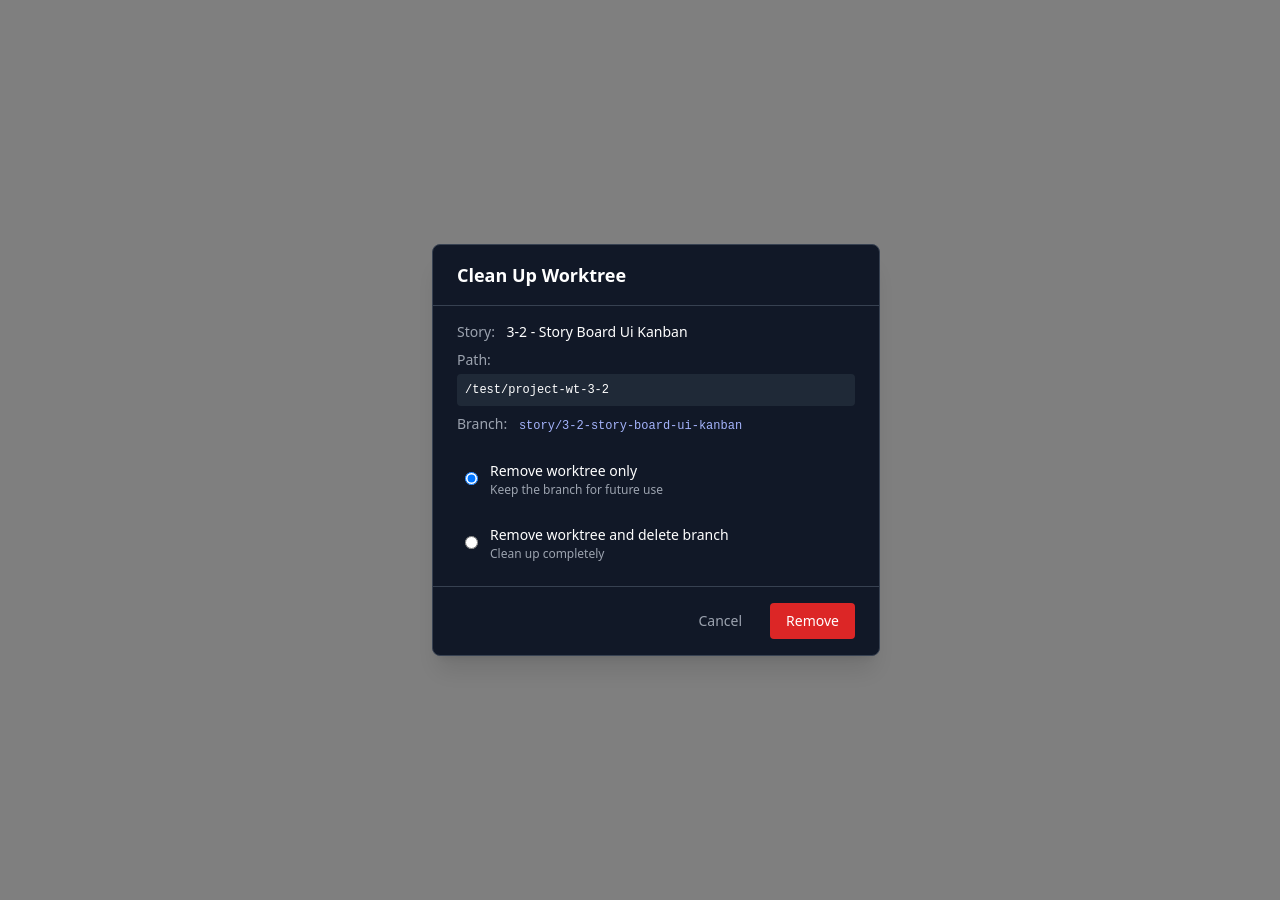
Test: WorktreeCleanupDialog › loading state › shows loading spinner during cleanup
The image size is (1280, 900).
Check: the text "Remove" is shown, box [786, 611, 839, 631]
Click the button "Remove" at point(813, 621), box [770, 603, 855, 639]
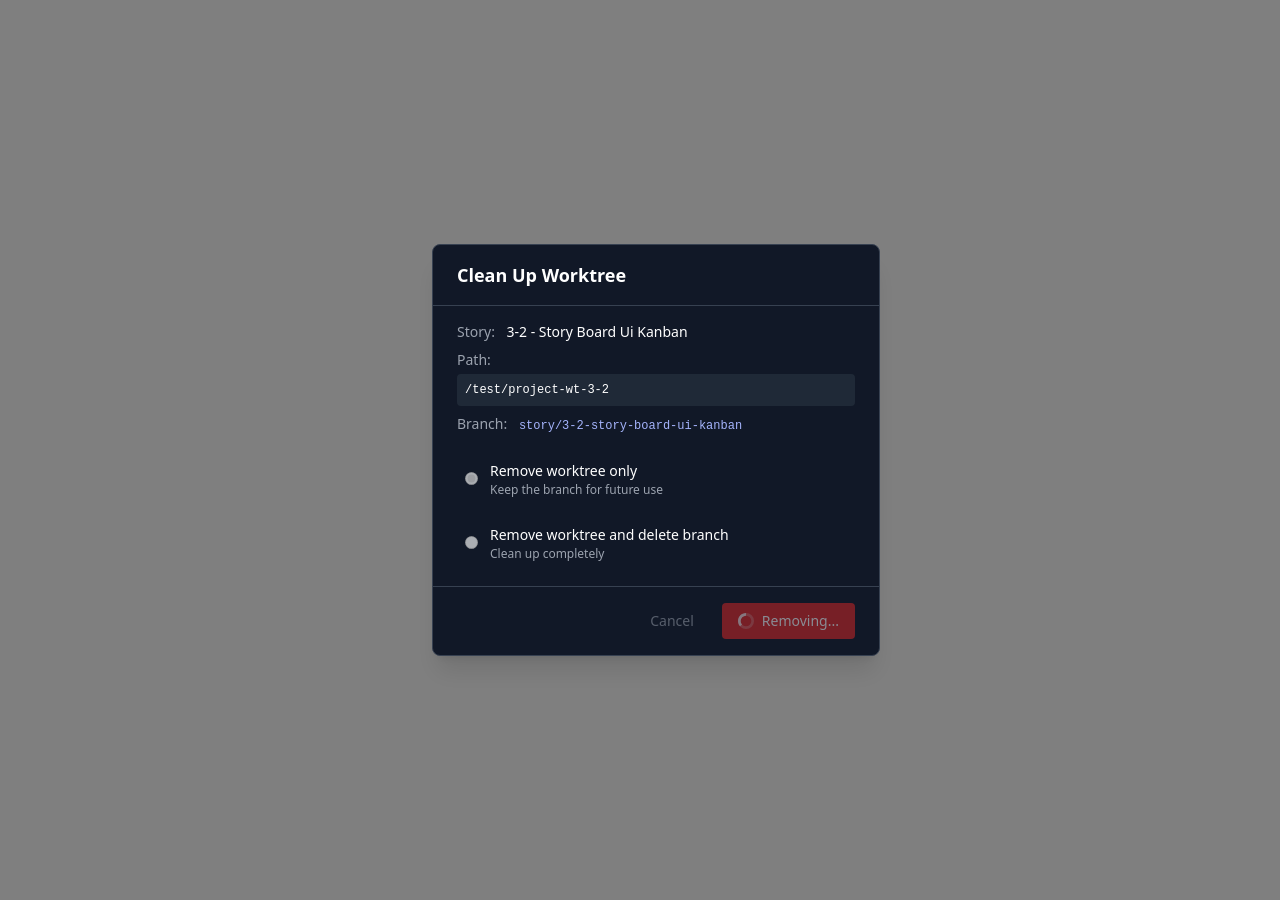
Check: the text "Removing..." is shown, box [762, 611, 839, 631]
